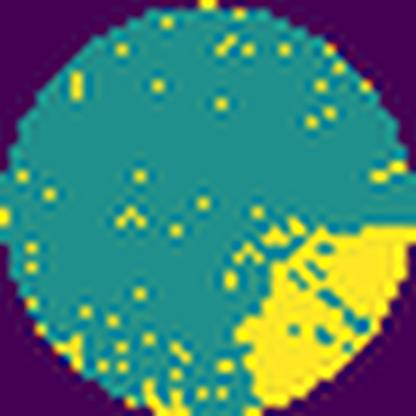Edge-Loc: (230, 224, 415, 410)
